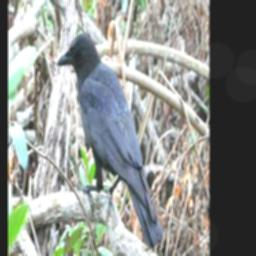Crow: (55, 31, 164, 255)
